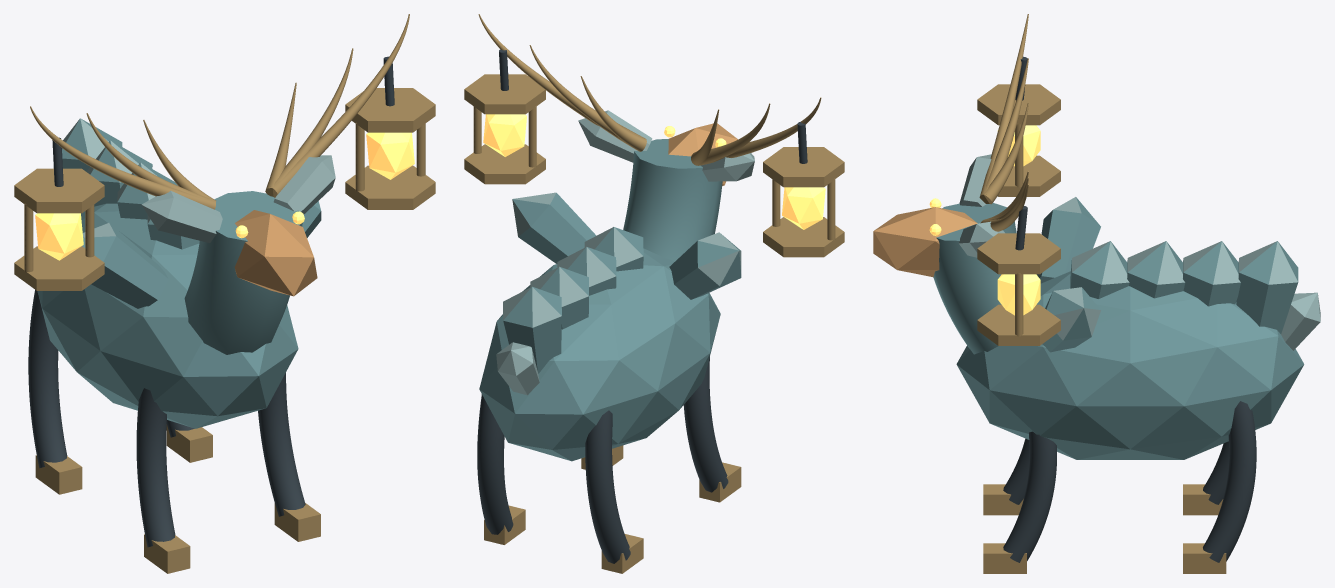
Rendered from lantern_hart.glb.
3 views of the same model, side by side, from view 1: azimuth 30°, elevation 25°; view 2: azimuth 150°, elevation 25°; view 3: azimuth 270°, elevation 25° (orthographic). The views are drawn at different scales.
Visible parts, largest first — view 1: lantern_hart; view 2: lantern_hart; view 3: lantern_hart.
Part boxes in pixels (<box>): lantern_hart: <box>14,14,435,573</box>; lantern_hart: <box>464,14,844,573</box>; lantern_hart: <box>873,14,1320,573</box>.
Size of the model in its own units: 0.918 by 1.05 by 0.9638.
